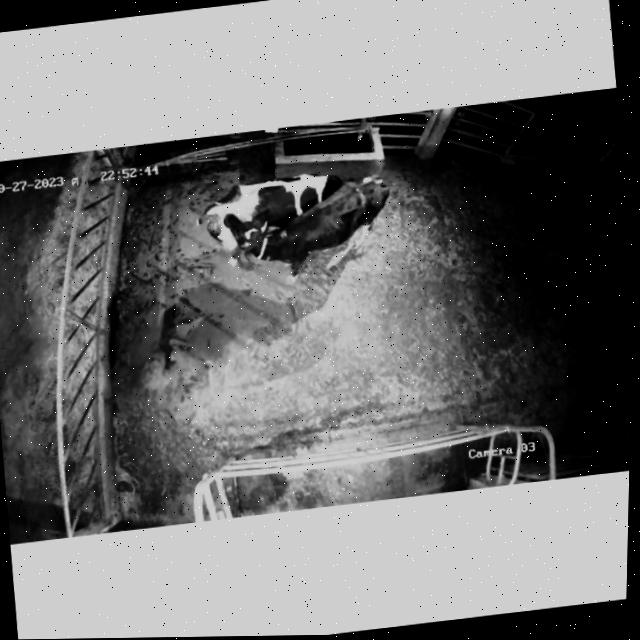propping: (211, 196, 284, 264)
